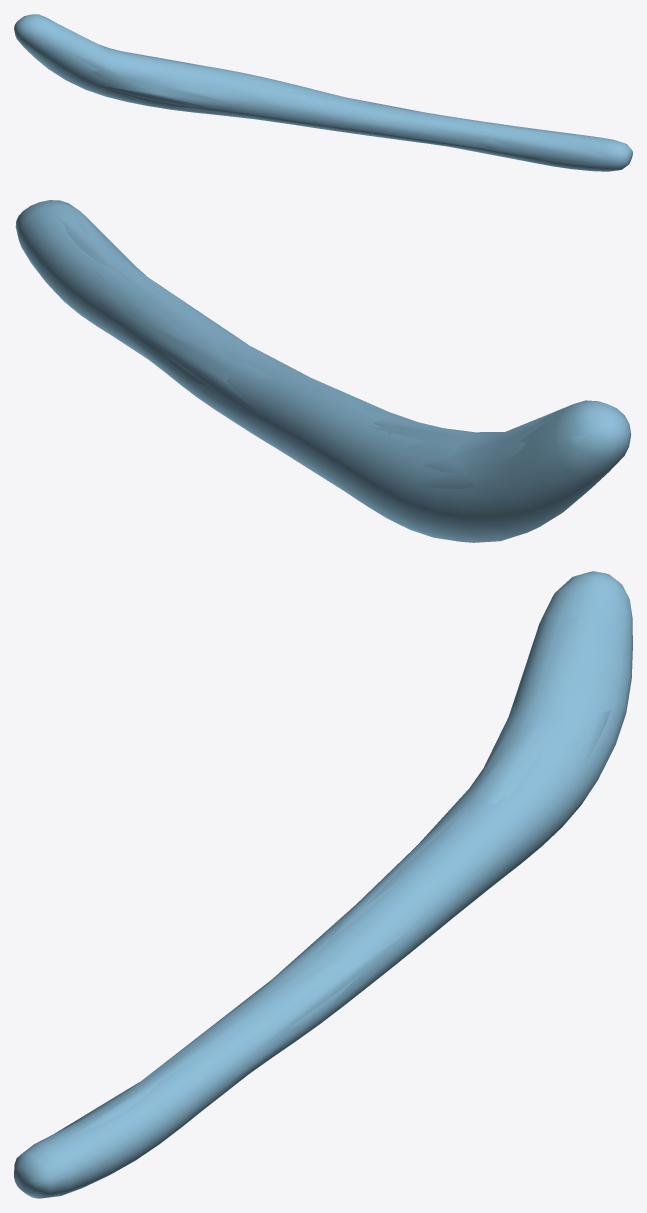
3 renders of one model, top to bottom at view 1: azimuth 30°, elevation 25°; view 2: azimuth 150°, elevation 25°; view 3: azimuth 270°, elevation 25°, orthographic. The views are drawn at different scales.
Visible parts, largest first — view 1: CC R8 low, CC R8; view 2: CC R8, CC R8 low; view 3: CC R8, CC R8 low.
Boxes of the visible parts, x1,y1,x2,y2 form: CC R8 low: (15, 18, 605, 165); CC R8: (14, 14, 632, 171); CC R8: (15, 200, 631, 542); CC R8 low: (50, 207, 628, 541); CC R8: (14, 571, 632, 1198); CC R8 low: (37, 572, 628, 1183).
Bounding box in the file's own units: 18.82 × 5.69 × 12.42.
